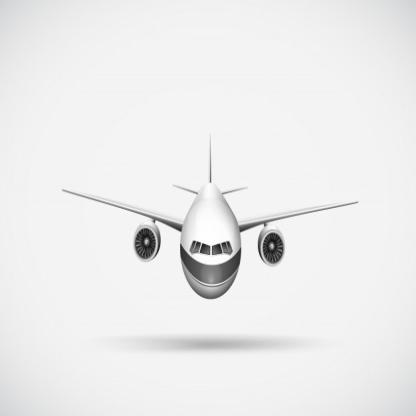CIV_Plane: (62, 132, 361, 304)
